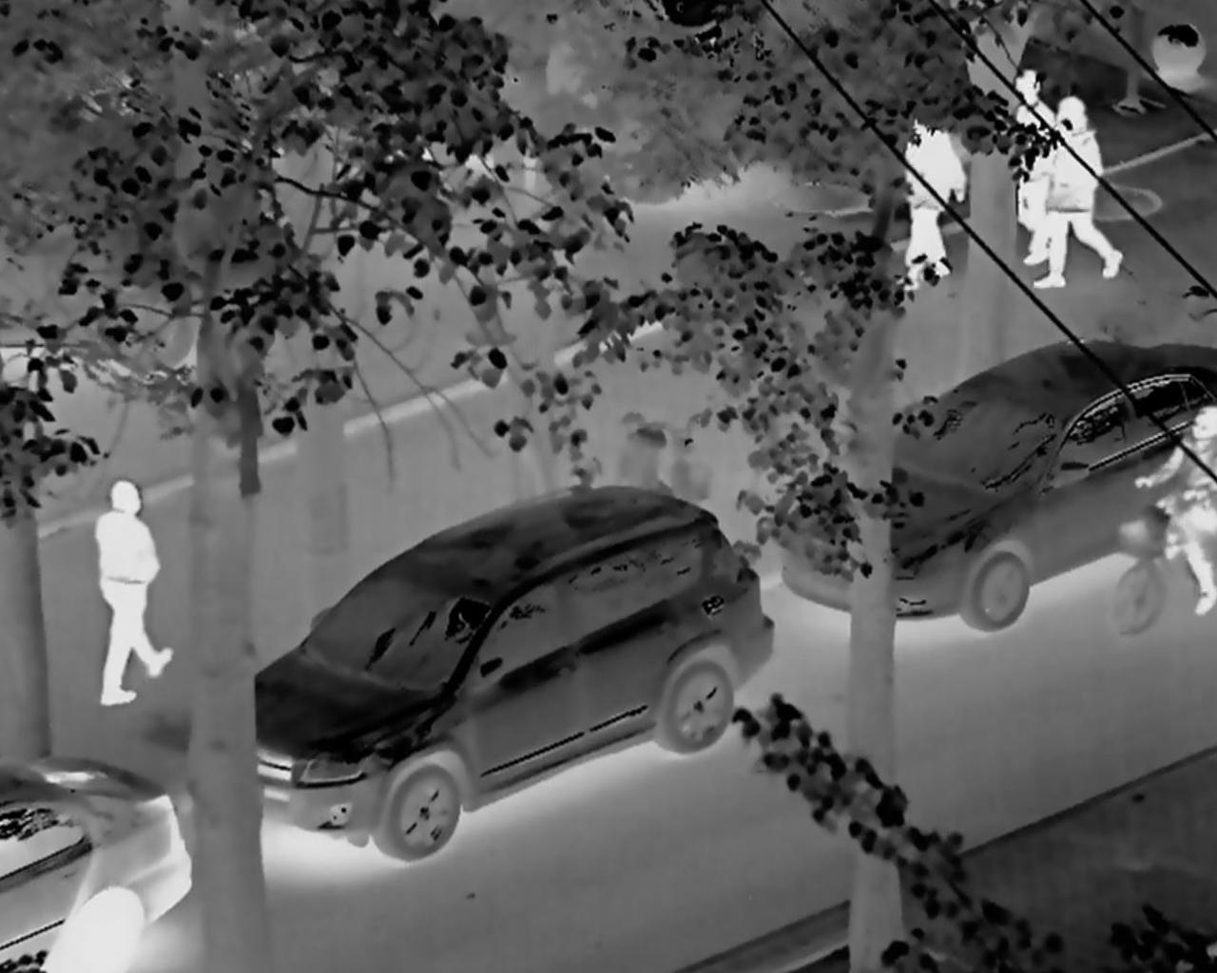person: (69, 467, 191, 729), (1135, 363, 1217, 662), (1038, 81, 1152, 296), (892, 71, 969, 307), (1007, 59, 1054, 265)
